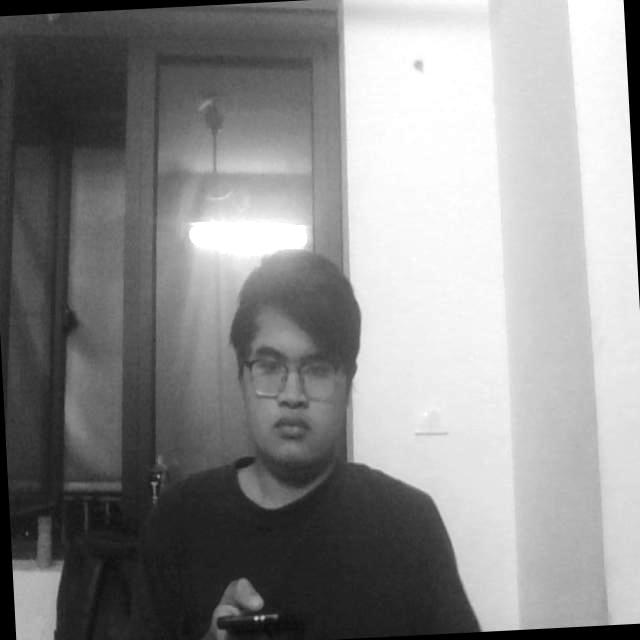phone: (200, 575, 297, 640)
